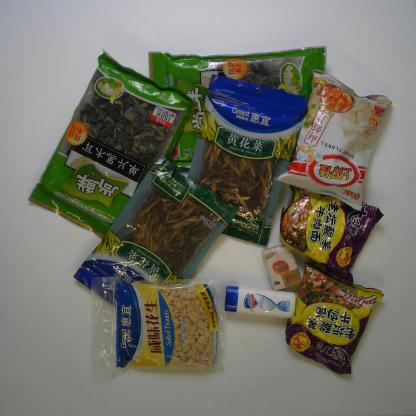Dried Food: (26, 47, 199, 239), (72, 153, 240, 306), (147, 44, 328, 169), (186, 72, 311, 247)
Dried Fruit: (89, 276, 229, 380)
Instant Noodles: (284, 260, 385, 376), (277, 182, 385, 285)
Personal Hygiene: (224, 283, 297, 320)
Puffed Food: (274, 66, 394, 214)
Tissue: (260, 242, 302, 293)
